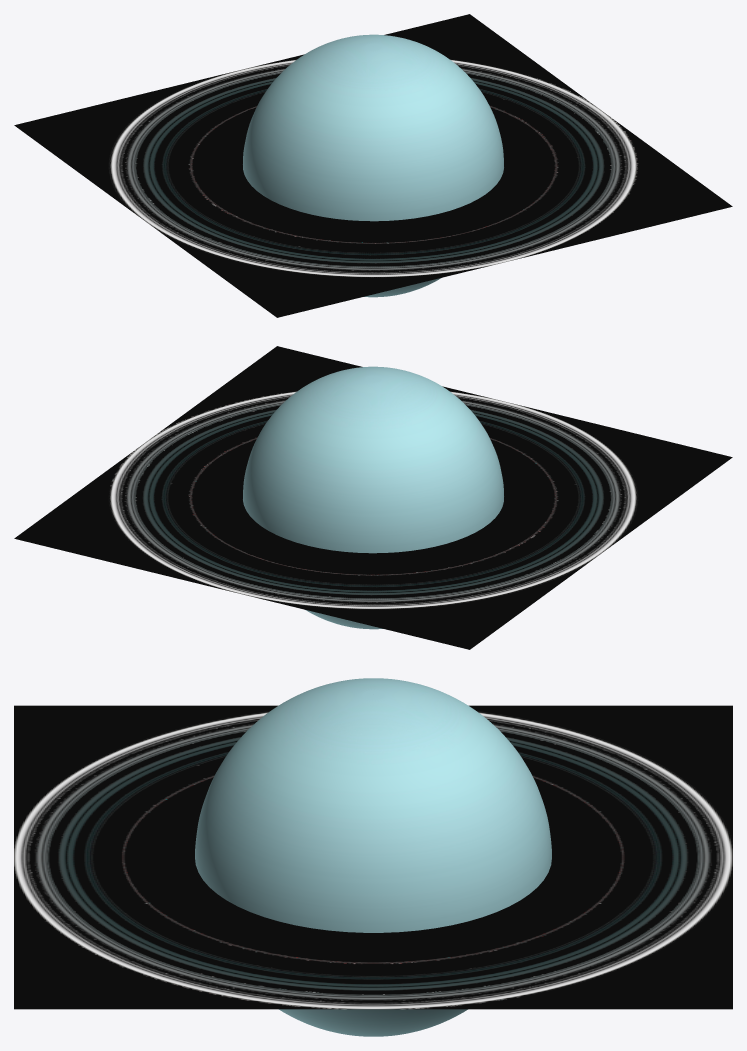
Rendered from planet_uranus.glb.
3 renders of one model, top to bottom at view 1: azimuth 30°, elevation 25°; view 2: azimuth 150°, elevation 25°; view 3: azimuth 270°, elevation 25°, orthographic. The views are drawn at different scales.
Visible parts, largest first — view 1: Uranus (ring) _1, Uranus (main) _0; view 2: Uranus (ring) _1, Uranus (main) _0; view 3: Uranus (ring) _1, Uranus (main) _0.
Boxes of the visible parts, box(x1,y1,x2,y2) form: Uranus (ring) _1: box(14, 14, 732, 317); Uranus (main) _0: box(243, 34, 503, 297); Uranus (ring) _1: box(14, 346, 732, 649); Uranus (main) _0: box(243, 366, 503, 629); Uranus (ring) _1: box(14, 705, 732, 1009); Uranus (main) _0: box(195, 678, 551, 1036).
Bounding box in the file's own units: 2 × 0.9981 × 2.
Materials: 2 (2 with a texture image).
